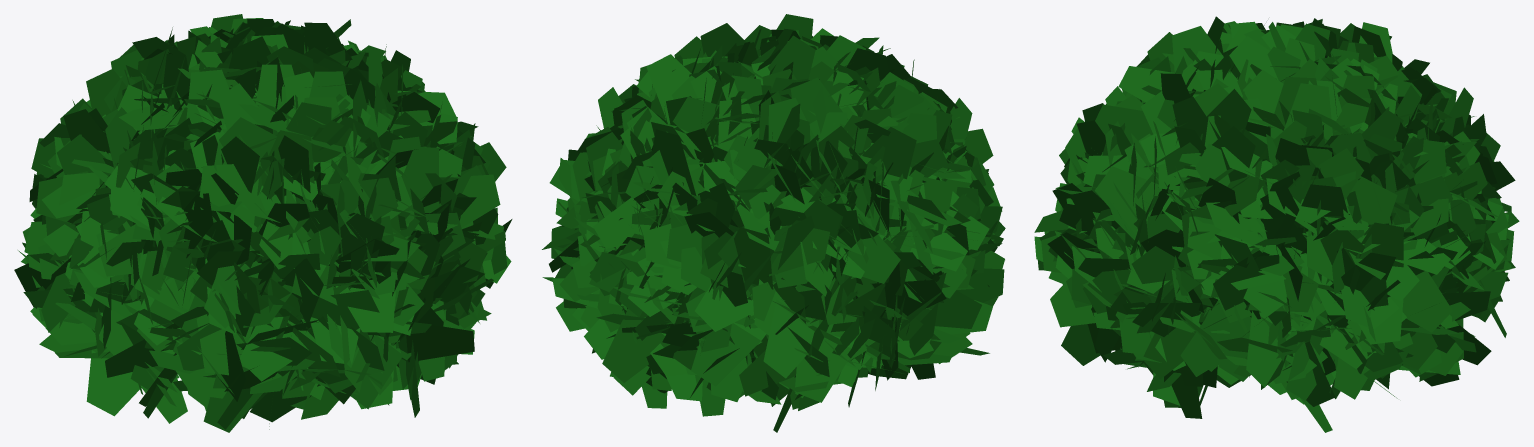
Rendered from bushesgreen.fbx.
The picture shows the model from 3 angles, left to right: view 1: azimuth 30°, elevation 25°; view 2: azimuth 150°, elevation 25°; view 3: azimuth 270°, elevation 25°; orthographic projection. The views are drawn at different scales.
Parts seen in each view (by area): view 1: Sphere|Flower|Dupli|7, Sphere|Flower|Dupli|602, Sphere|Flower|Dupli|140, Sphere|Flower|Dupli|688, Sphere|Flower|Dupli|160, Sphere|Flower|Dupli|478, Sphere|Flower|Dupli|351, Sphere|Flower|Dupli|615, Sphere|Flower|Dupli|21, Sphere|Flower|Dupli|542, Sphere|Flower|Dupli|113, Sphere|Flower|Dupli|442 (+129 smaller); view 2: Sphere|Flower|Dupli|180, Sphere|Flower|Dupli|440, Sphere|Flower|Dupli|694, Sphere|Flower|Dupli|618, Sphere|Flower|Dupli|403, Sphere|Flower|Dupli|138, Sphere|Flower|Dupli|193, Sphere|Flower|Dupli|439, Sphere|Flower|Dupli|94, Sphere|Flower|Dupli|603, Sphere|Flower|Dupli|493, Sphere|Flower|Dupli|57 (+110 smaller); view 3: Sphere|Flower|Dupli|276, Sphere|Flower|Dupli|367, Sphere|Flower|Dupli|670, Sphere|Flower|Dupli|6, Sphere|Flower|Dupli|435, Sphere|Flower|Dupli|47, Sphere|Flower|Dupli|75, Sphere|Flower|Dupli|139, Sphere|Flower|Dupli|342, Sphere|Flower|Dupli|507, Sphere|Flower|Dupli|133, Sphere|Flower|Dupli|505 (+111 smaller).
Boxes of the visible parts, box(x1,y1,x2,y2) form: Sphere|Flower|Dupli|7: box(135, 259, 262, 432); Sphere|Flower|Dupli|602: box(51, 250, 142, 416); Sphere|Flower|Dupli|140: box(398, 325, 474, 362); Sphere|Flower|Dupli|688: box(239, 317, 392, 394); Sphere|Flower|Dupli|160: box(199, 162, 261, 227); Sphere|Flower|Dupli|478: box(105, 211, 189, 377); Sphere|Flower|Dupli|351: box(402, 146, 439, 213); Sphere|Flower|Dupli|615: box(95, 69, 229, 195); Sphere|Flower|Dupli|21: box(298, 290, 379, 371); Sphere|Flower|Dupli|542: box(111, 274, 253, 375); Sphere|Flower|Dupli|113: box(336, 213, 441, 303); Sphere|Flower|Dupli|442: box(213, 261, 267, 429); Sphere|Flower|Dupli|180: box(763, 299, 873, 378); Sphere|Flower|Dupli|440: box(602, 309, 670, 382); Sphere|Flower|Dupli|694: box(691, 322, 766, 386); Sphere|Flower|Dupli|618: box(908, 166, 981, 328); Sphere|Flower|Dupli|403: box(794, 335, 902, 402); Sphere|Flower|Dupli|138: box(593, 197, 658, 248); Sphere|Flower|Dupli|193: box(734, 227, 773, 289); Sphere|Flower|Dupli|439: box(862, 127, 916, 179); Sphere|Flower|Dupli|94: box(846, 214, 900, 283); Sphere|Flower|Dupli|603: box(695, 284, 753, 331); Sphere|Flower|Dupli|493: box(632, 98, 755, 225); Sphere|Flower|Dupli|57: box(623, 54, 691, 202); Sphere|Flower|Dupli|276: box(1095, 166, 1161, 336); Sphere|Flower|Dupli|367: box(1402, 271, 1452, 332); Sphere|Flower|Dupli|670: box(1143, 314, 1327, 379); Sphere|Flower|Dupli|6: box(1103, 246, 1174, 364); Sphere|Flower|Dupli|435: box(1162, 190, 1228, 376); Sphere|Flower|Dupli|47: box(1083, 133, 1158, 313); Sphere|Flower|Dupli|75: box(1200, 307, 1373, 371); Sphere|Flower|Dupli|139: box(1172, 246, 1281, 387); Sphere|Flower|Dupli|342: box(1347, 127, 1397, 224); Sphere|Flower|Dupli|507: box(1095, 104, 1153, 155); Sphere|Flower|Dupli|133: box(1184, 83, 1332, 169); Sphere|Flower|Dupli|505: box(1243, 245, 1316, 316).
Size of the model in its own units: 83.9 by 64.12 by 83.35.
